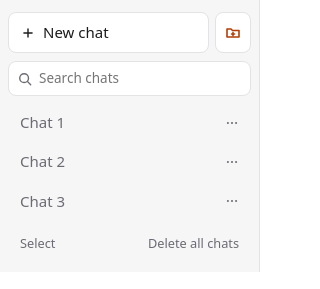
Test: select mode › gives every chat a box and swaps the footer for the selection bar
Click the button "Select": click(38, 244) [8,228,67,260]
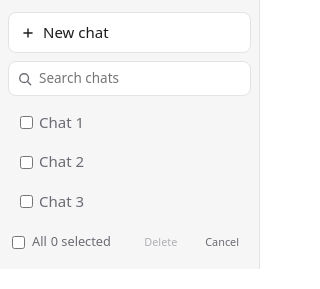
Result: the number of checkboxes with class "tick" is 3 at [20,116,33,129]; [20,156,33,168]; [20,195,33,208]
Result: the element with class "select-bar" is shown at [8,228,251,257]
Result: the element with class "select-bar" shows "0 selected" at [51,232,111,250]
